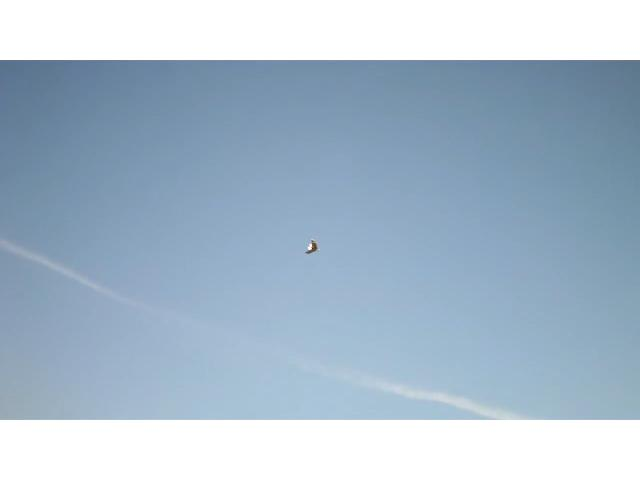Anti-Drone: (306, 241, 318, 253)
